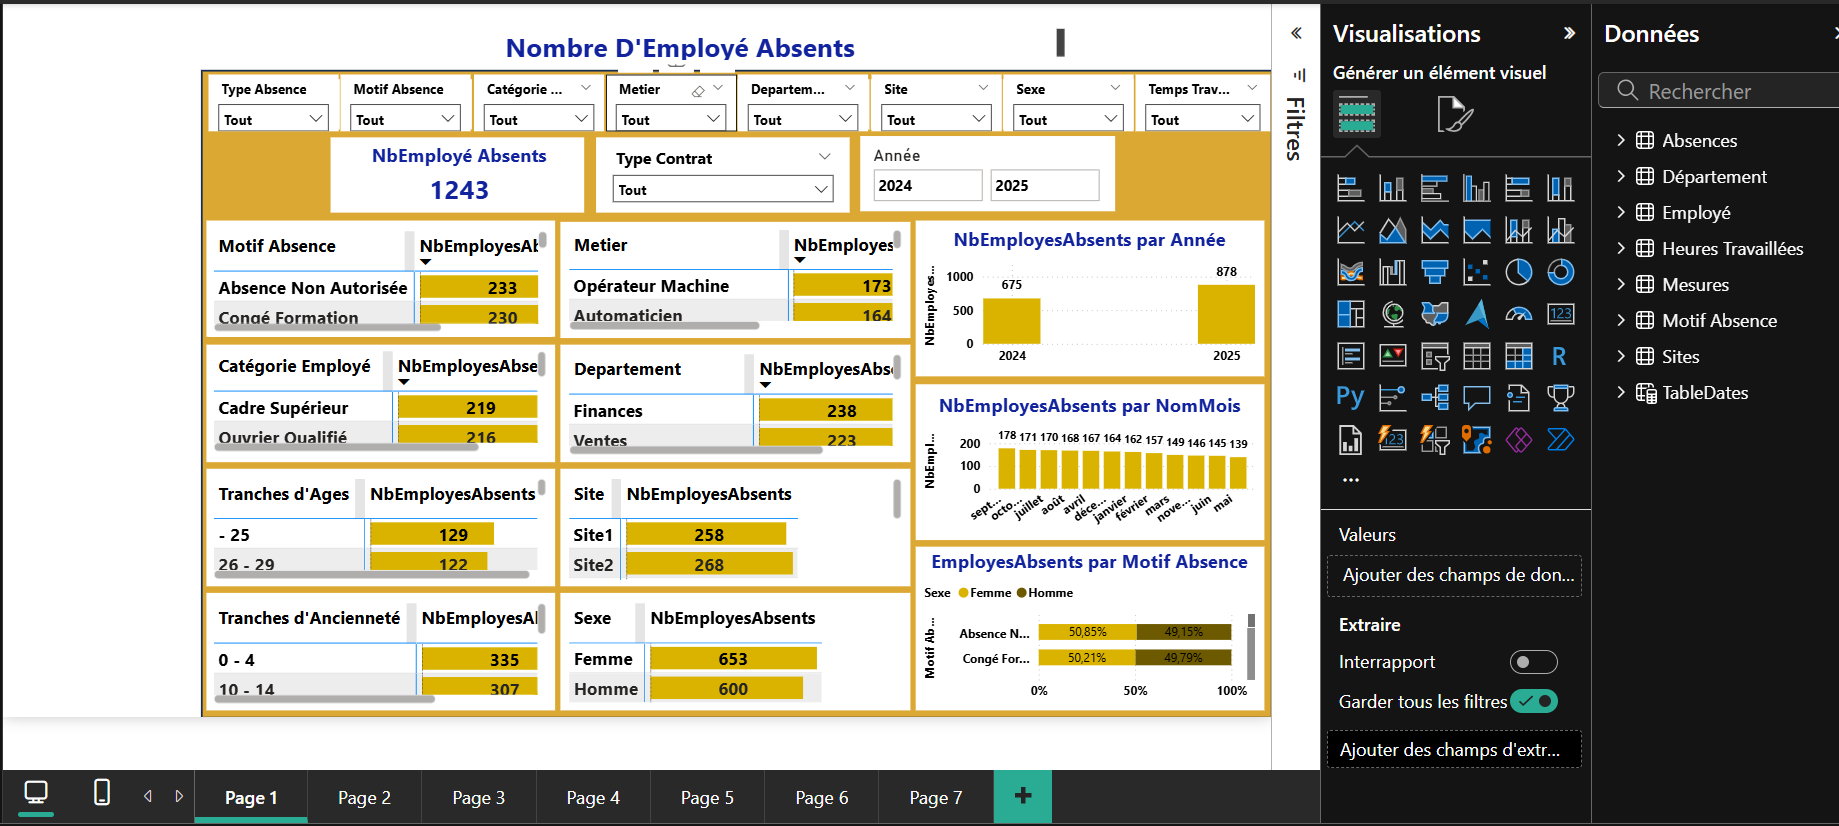

The page's visual inventory and layout, read from the dashboard file:
{"tool":"powerbi","page":{"name":"Page 1","canvas":[1280,720],"ordinal":0},"visuals":[{"type":"pivotTable","fields":{"Values":["Mesures.NbEmployesAbsents"],"Rows":["Employé.Catégorie Employé"]},"box":[207.9,345.8,345.8,111.5],"z":0},{"type":"pivotTable","fields":{"Values":["Mesures.NbEmployesAbsents"],"Rows":["Employé.Metier"]},"box":[566.9,223,345.8,111.5],"z":1000},{"type":"pivotTable","fields":{"Values":["Mesures.NbEmployesAbsents"],"Rows":["Employé.Departement"]},"box":[566.9,347.7,345.8,111.5],"z":2000},{"type":"pivotTable","fields":{"Values":["Mesures.NbEmployesAbsents"],"Rows":["Employé.Tranches d'Ages"]},"box":[207.9,474.3,345.8,111.5],"z":3000},{"type":"pivotTable","fields":{"Values":["Mesures.NbEmployesAbsents"],"Rows":["Employé.Site"]},"box":[566.9,474.3,345.8,111.5],"z":4000},{"type":"pivotTable","fields":{"Values":["Mesures.NbEmployesAbsents"],"Rows":["Employé.Tranches d'Ancienneté"]},"box":[207.9,599.1,345.8,111.5],"z":5000},{"type":"pivotTable","fields":{"Values":["Mesures.NbEmployesAbsents"],"Rows":["Employé.Sexe"]},"box":[566.9,599.1,345.8,111.5],"z":6000},{"type":"slicer","fields":{"Values":["Motif Absence.Type Absence"]},"box":[207.7,71.9,131,57.5],"z":7000},{"type":"slicer","fields":{"Values":["Employé.Temps Travail"]},"box":[1143.9,71.9,135.8,57.5],"z":8000},{"type":"slicer","fields":{"Values":["Motif Absence.Motif Absence"]},"box":[341.4,71.9,131,57.5],"z":9000},{"type":"slicer","fields":{"Values":["Employé.Catégorie Employé"]},"box":[475.2,71.9,131,57.5],"z":10000},{"type":"slicer","fields":{"Values":["Employé.Metier"]},"box":[608.9,71.9,131,57.5],"z":11000},{"type":"slicer","fields":{"Values":["Département.Departement"]},"box":[742.7,71.9,131,57.5],"z":12000},{"type":"slicer","fields":{"Values":["Sites.Site"]},"box":[876.4,71.9,131,57.5],"z":13000},{"type":"slicer","fields":{"Values":["Employé.Sexe"]},"box":[1010.2,71.9,131,57.5],"z":14000},{"type":"hundredPercentStackedBarChart","title":"EmployesAbsents par Motif Absence","fields":{"Y":["Mesures.NbEmployesAbsents"],"Category":["Absences.Motif Absence"],"Series":["Employé.Sexe"]},"box":[925.1,549.6,343.5,161.4],"z":15000},{"type":"clusteredColumnChart","fields":{"Y":["Mesures.NbEmployesAbsents"],"Category":["TableDates.NomMois"]},"box":[925.1,391.4,343.5,143.8],"z":16000},{"type":"advancedSlicerVisual","fields":{"Values":["TableDates.Année"]},"box":[873.9,142.2,238.1,62.3],"z":17000},{"type":"pivotTable","fields":{"Rows":["Motif Absence.Motif Absence"],"Values":["Mesures.NbEmployesAbsents"]},"box":[207.7,223.7,346.7,111.8],"z":18000},{"type":"clusteredColumnChart","fields":{"Category":["TableDates.Année"],"Y":["Mesures.NbEmployesAbsents"]},"box":[925.1,223.7,343.5,148.6],"z":19000},{"type":"slicer","fields":{"Values":["Employé.Type Contrat"]},"box":[605.5,139,242.8,70.3],"z":20000},{"type":"card","title":"NbEmployé Absents","fields":{"Values":["Mesures.NbEmployesAbsents"]},"box":[338.7,139,242.8,70.3],"z":21000},{"type":"textbox","box":[298.8,19.2,778.1,41.5],"z":22000}]}

Visuals, with their boxes on the page's 1280x720 design canvas (x1, y1, x2, y2). These are canvas units, not pixel positions in the 1839x826 screenshot, which may show the page scaled, cropped or inside an application window:
pivotTable - Mesures.NbEmployesAbsents x Employé.Catégorie Employé: locate(208, 346, 554, 457)
pivotTable - Mesures.NbEmployesAbsents x Employé.Metier: locate(567, 223, 913, 334)
pivotTable - Mesures.NbEmployesAbsents x Employé.Departement: locate(567, 348, 913, 459)
pivotTable - Mesures.NbEmployesAbsents x Employé.Tranches d'Ages: locate(208, 474, 554, 586)
pivotTable - Mesures.NbEmployesAbsents x Employé.Site: locate(567, 474, 913, 586)
pivotTable - Mesures.NbEmployesAbsents x Employé.Tranches d'Ancienneté: locate(208, 599, 554, 711)
pivotTable - Mesures.NbEmployesAbsents x Employé.Sexe: locate(567, 599, 913, 711)
slicer - Motif Absence.Type Absence: locate(208, 72, 339, 129)
slicer - Employé.Temps Travail: locate(1144, 72, 1280, 129)
slicer - Motif Absence.Motif Absence: locate(341, 72, 472, 129)
slicer - Employé.Catégorie Employé: locate(475, 72, 606, 129)
slicer - Employé.Metier: locate(609, 72, 740, 129)
slicer - Département.Departement: locate(743, 72, 874, 129)
slicer - Sites.Site: locate(876, 72, 1007, 129)
slicer - Employé.Sexe: locate(1010, 72, 1141, 129)
"EmployesAbsents par Motif Absence" hundredPercentStackedBarChart: locate(925, 550, 1269, 711)
clusteredColumnChart - Mesures.NbEmployesAbsents x TableDates.NomMois: locate(925, 391, 1269, 535)
advancedSlicerVisual - TableDates.Année: locate(874, 142, 1112, 204)
pivotTable - Motif Absence.Motif Absence x Mesures.NbEmployesAbsents: locate(208, 224, 554, 336)
clusteredColumnChart - TableDates.Année x Mesures.NbEmployesAbsents: locate(925, 224, 1269, 372)
slicer - Employé.Type Contrat: locate(606, 139, 848, 209)
"NbEmployé Absents" card: locate(339, 139, 582, 209)
textbox: locate(299, 19, 1077, 61)
